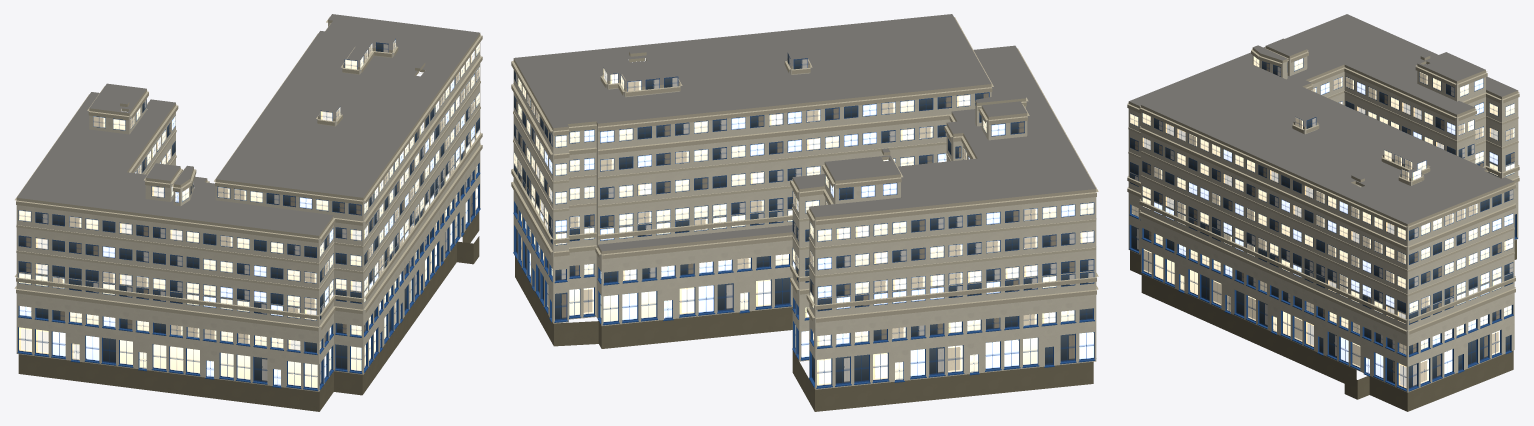
Rendered from limmathaus.glb.
3 renders of one model, left to right at view 1: azimuth 30°, elevation 25°; view 2: azimuth 150°, elevation 25°; view 3: azimuth 270°, elevation 25°, orthographic. The views are drawn at different scales.
Parts seen in each view (by area): view 1: limmathaus; view 2: limmathaus; view 3: limmathaus.
Part boxes in pixels (x1,y1,x2,y2): limmathaus: (14, 14, 482, 411); limmathaus: (511, 14, 1098, 411); limmathaus: (1127, 14, 1519, 411).
Bounding box in the file's own units: 75.49 × 30.62 × 54.09.
Materials: 3 (3 with a texture image).
